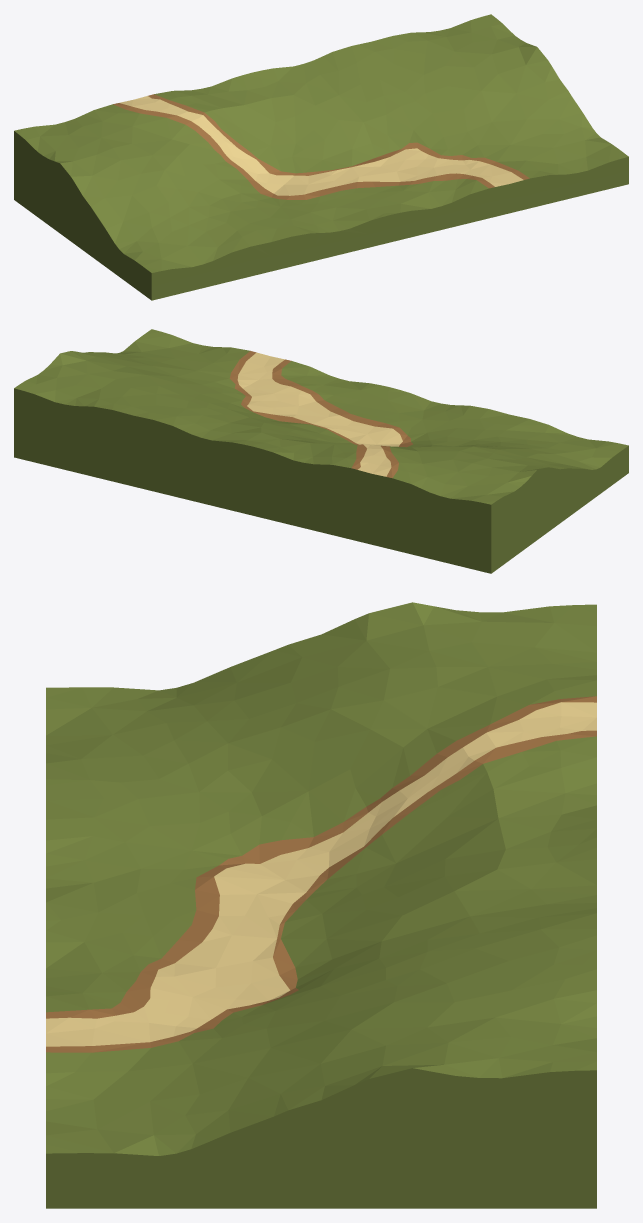
Rendered from Terrian_Road_STurn_Hill-03.fbx.
3 renders of one model, top to bottom at view 1: azimuth 30°, elevation 25°; view 2: azimuth 150°, elevation 25°; view 3: azimuth 270°, elevation 25°, orthographic. The views are drawn at different scales.
Visible parts, largest first — view 1: Terrian_Road_STurn_Hill-03; view 2: Terrian_Road_STurn_Hill-03; view 3: Terrian_Road_STurn_Hill-03.
Boxes of the visible parts, x1=… form: Terrian_Road_STurn_Hill-03: x1=14, y1=14, x2=628, y2=300; Terrian_Road_STurn_Hill-03: x1=14, y1=329, x2=628, y2=573; Terrian_Road_STurn_Hill-03: x1=46, y1=602, x2=596, y2=1208.
Bounding box in the file's own units: 7200 × 1058 × 3600.
1 material, 1 textured.
